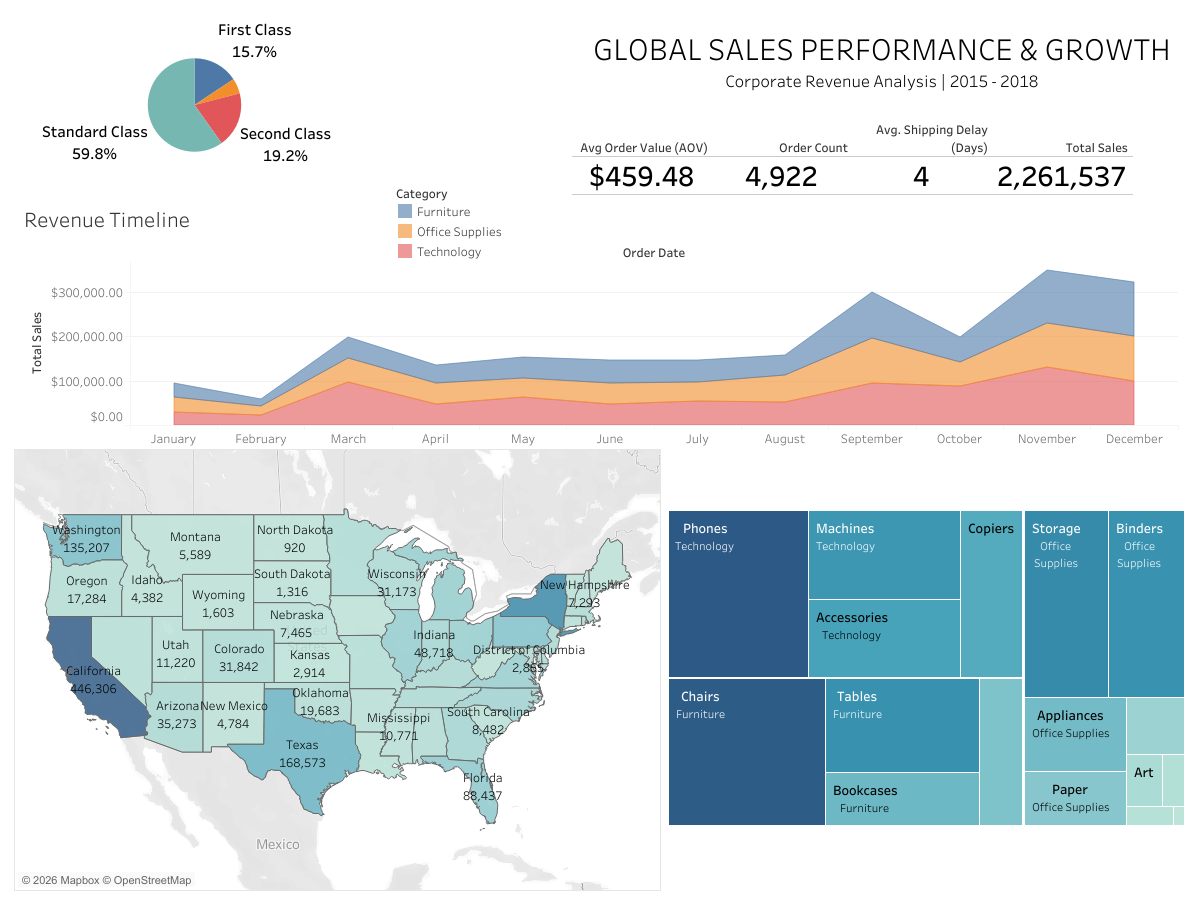

The page's visual inventory and layout, read from the dashboard file:
{"tool":"tableau","page":{"name":"GLOBAL SALES PERFORMANCE & GROWTH","canvas":[1200,900],"ordinal":0},"visuals":[{"type":"worksheet","title":"Shipping Efficiency","mark":"Pie","box":[17,12,355,186]},{"type":"worksheet","title":"Sales KPIs","mark":"Automatic","box":[572,116,606,91]},{"type":"legend","title":"Revenue Timeline","param":"[federated.0t013yi074r48p15ts135055lppg].[none:Category:nk]","box":[395,182,137,95]},{"type":"worksheet","title":"Revenue Timeline","mark":"Area","rows":["Calculation_0001143470526477"],"cols":["Order Date"],"box":[20,199,1158,248]},{"type":"worksheet","title":"Sales by State","mark":"Multipolygon","box":[14,449,647,442]},{"type":"worksheet","title":"Product Mix Analysis","mark":"Square","box":[663,505,526,385]}]}

Visuals, with their boxes in screenshot pixels (x1, y1, x2, y2), scaled from the page's 1200x900 canvas onto the 1199x899 screenshot:
"Shipping Efficiency" worksheet (Pie marks): detection(17, 12, 372, 198)
"Sales KPIs" worksheet: detection(572, 116, 1177, 207)
"Revenue Timeline" legend: detection(395, 182, 532, 277)
"Revenue Timeline" worksheet (Area marks): detection(20, 199, 1177, 447)
"Sales by State" worksheet (Multipolygon marks): detection(14, 449, 660, 890)
"Product Mix Analysis" worksheet (Square marks): detection(662, 504, 1188, 889)
